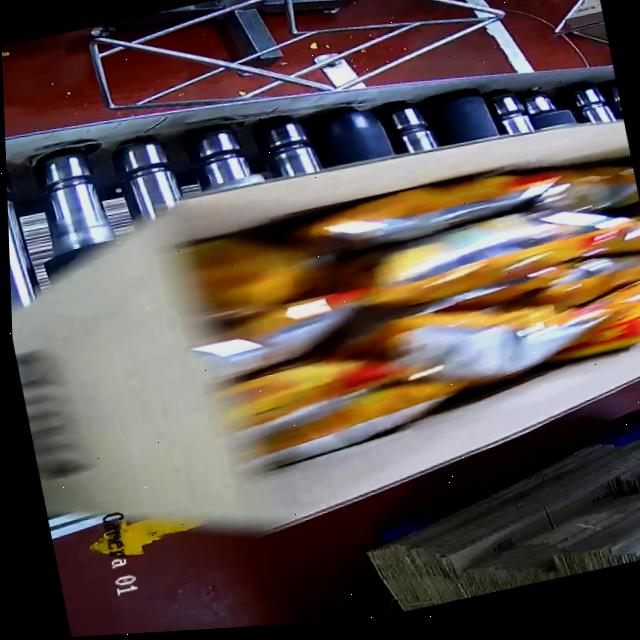FRENCH_CHEESE: (187, 135, 640, 460)
